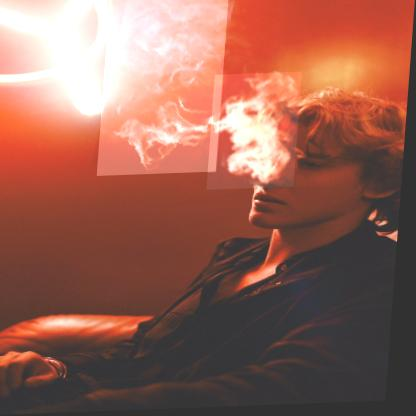smoke: (100, 0, 229, 177), (210, 74, 303, 192)
